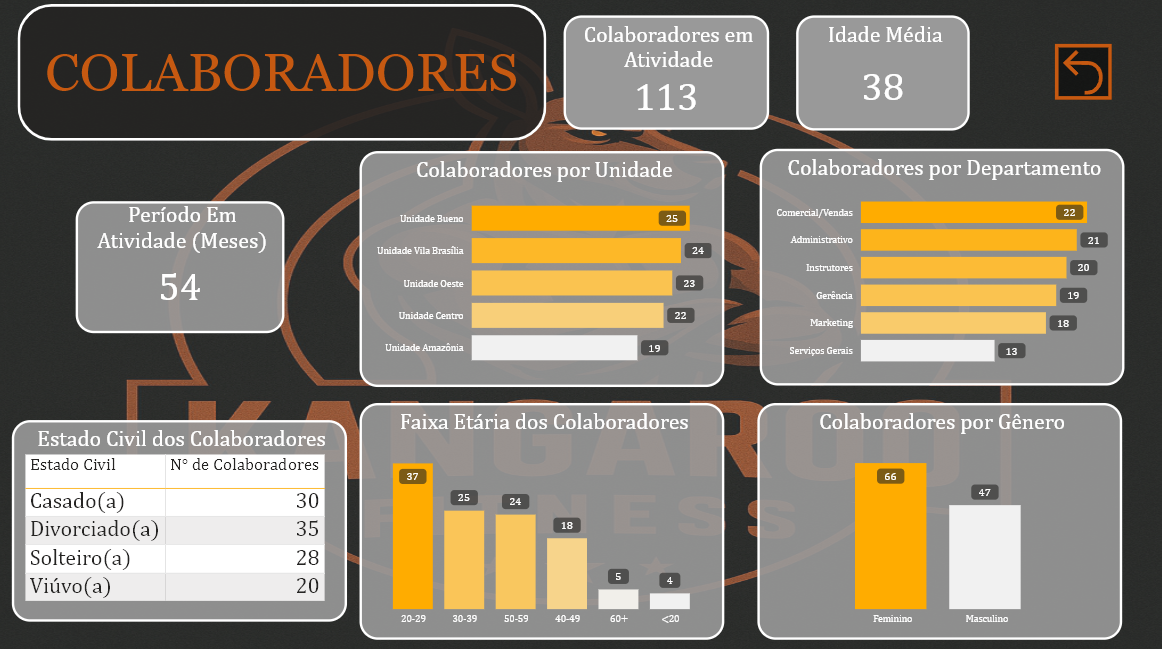

The dashboard page shown, as its layout file describes it:
{"tool":"powerbi","page":{"name":"Colaboradores","canvas":[1280,720],"ordinal":2},"visuals":[{"type":"shape","box":[22.9,9.2,580,150],"z":0,"group":"g1"},{"type":"clusteredBarChart","title":"Colaboradores por Unidade","fields":{"Y":["0_Medidas.N_Colab"],"Category":["fat_Unidade.Nome"]},"box":[397.1,170,400,258.6],"z":0},{"type":"textbox","box":[30.8,45.4,564.5,77.5],"z":1000,"group":"g1"},{"type":"clusteredBarChart","title":"Colaboradores por Departamento","fields":{"Category":["fat_departamento.Nome"],"Y":["0_Medidas.N_Colab"]},"box":[835.7,167.9,400,260],"z":1000},{"type":"clusteredColumnChart","title":"Colaboradores por Gênero","fields":{"Category":["dim_funcionarios.Genero"],"Y":["0_Medidas.N_Colab"]},"box":[834.3,446.2,400,260],"z":2000},{"type":"clusteredColumnChart","title":"Faixa Etária dos Colaboradores","fields":{"Category":["dim_funcionarios.Faixa_Idade"],"Y":["0_Medidas.N_Colab"]},"box":[397,446.2,400,260],"z":3000},{"type":"tableEx","title":"Estado Civil dos Colaboradores","fields":{"Values":["dim_funcionarios.Estado_civil","0_Medidas.N_Colab"]},"box":[16.7,465.5,367.1,221.4],"z":4000},{"type":"card","title":"Período Em Atividade (Meses)","fields":{"Values":["0_Medidas.Per_Med_Atividade"]},"box":[86.2,225.4,228.8,145],"z":5000},{"type":"card","title":"Idade Média","fields":{"Values":["0_Medidas.Id_Med_Colab"]},"box":[876.2,21,190,126.2],"z":6000},{"type":"card","title":"Colaboradores em Atividade","fields":{"Values":["0_Medidas.N_F_Genero"]},"box":[621.4,21.3,225,125.7],"z":7000},{"type":"actionButton","box":[1160,52.5,62.5,61.2],"z":11000},{"type":"group","id":"g1","title":"Grupo 1","box":[22.9,9.2,580,150],"z":12000}]}

Visuals, with their boxes in screenshot pixels (x1, y1, x2, y2), scaled from the page's 1280x720 canvas onto the 1162x649 screenshot:
shape: pyautogui.locateOnScreen(21, 8, 547, 144)
"Colaboradores por Unidade" clusteredBarChart: pyautogui.locateOnScreen(360, 153, 724, 386)
textbox: pyautogui.locateOnScreen(28, 41, 540, 111)
"Colaboradores por Departamento" clusteredBarChart: pyautogui.locateOnScreen(759, 151, 1122, 386)
"Colaboradores por Gênero" clusteredColumnChart: pyautogui.locateOnScreen(757, 402, 1121, 637)
"Faixa Etária dos Colaboradores" clusteredColumnChart: pyautogui.locateOnScreen(360, 402, 724, 637)
"Estado Civil dos Colaboradores" tableEx: pyautogui.locateOnScreen(15, 420, 348, 619)
"Período Em Atividade (Meses)" card: pyautogui.locateOnScreen(78, 203, 286, 334)
"Idade Média" card: pyautogui.locateOnScreen(795, 19, 968, 133)
"Colaboradores em Atividade" card: pyautogui.locateOnScreen(564, 19, 768, 133)
actionButton: pyautogui.locateOnScreen(1053, 47, 1110, 102)
"Grupo 1" group: pyautogui.locateOnScreen(21, 8, 547, 144)
